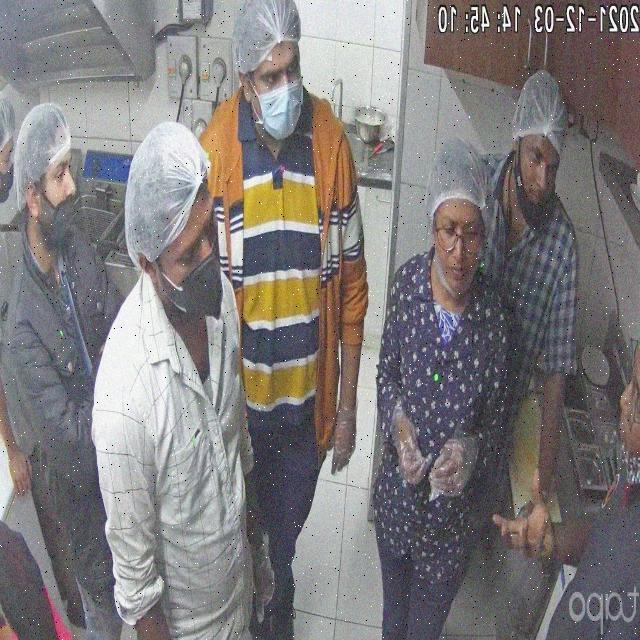apron: (390, 411, 430, 492), (436, 442, 476, 499), (329, 403, 355, 477)
gloves: (130, 129, 212, 236), (518, 66, 568, 153), (424, 145, 480, 217), (240, 0, 306, 58), (15, 100, 64, 168)
mask: (247, 82, 298, 140), (188, 249, 226, 317), (42, 194, 78, 246)
no_hairnet: (437, 230, 475, 274), (523, 164, 554, 204)
